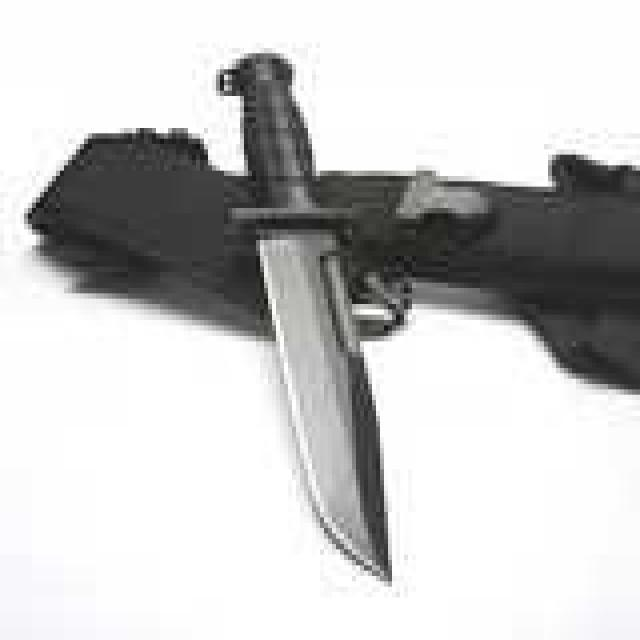knife: (200, 38, 415, 590)
